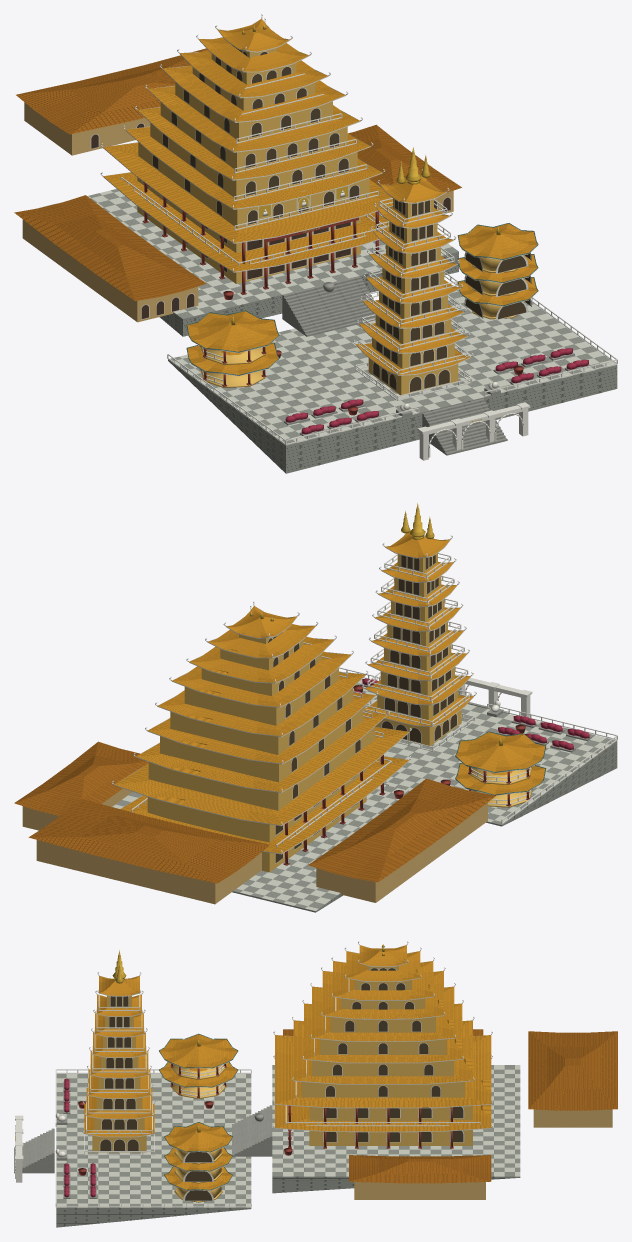
File: van-linh.glb
3 renders of one model, top to bottom at view 1: azimuth 30°, elevation 25°; view 2: azimuth 150°, elevation 25°; view 3: azimuth 270°, elevation 25°, orthographic. The views are drawn at different scales.
Visible parts, largest first — view 1: van-linh-near; view 2: van-linh-near; view 3: van-linh-near.
Part boxes in pixels (bbox=[...]): van-linh-near: bbox=[14, 14, 617, 473]; van-linh-near: bbox=[14, 503, 617, 912]; van-linh-near: bbox=[14, 941, 617, 1227].
Size of the model in its own units: 66.5 by 45.66 by 114.
Materials: 1 (1 with a texture image).
